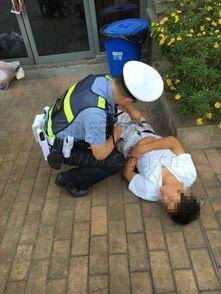Fall-Detected: (107, 104, 201, 224)
